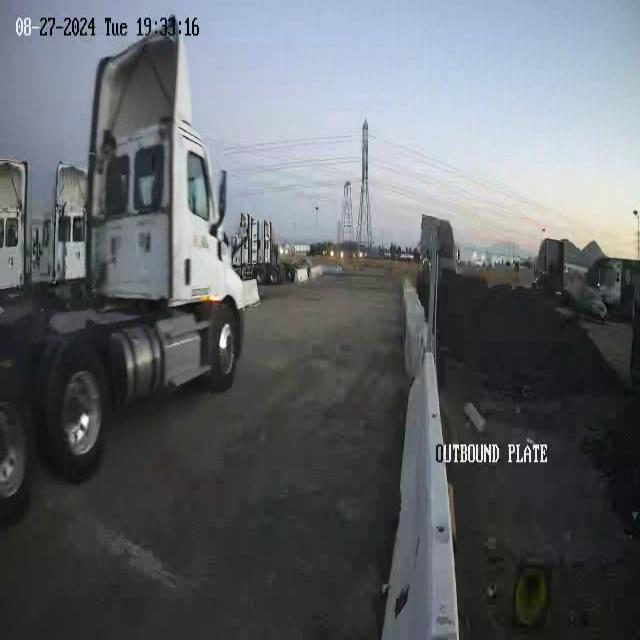TRUCK_IN: (1, 20, 261, 518)
